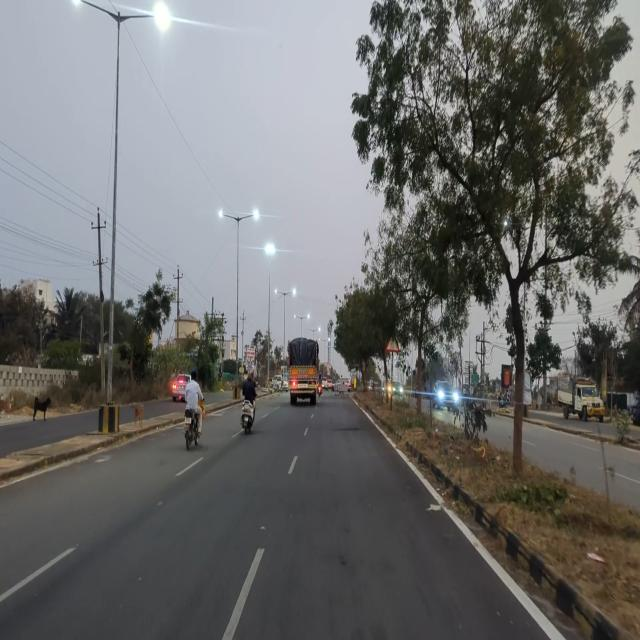bien_cam: (383, 334, 401, 357)
